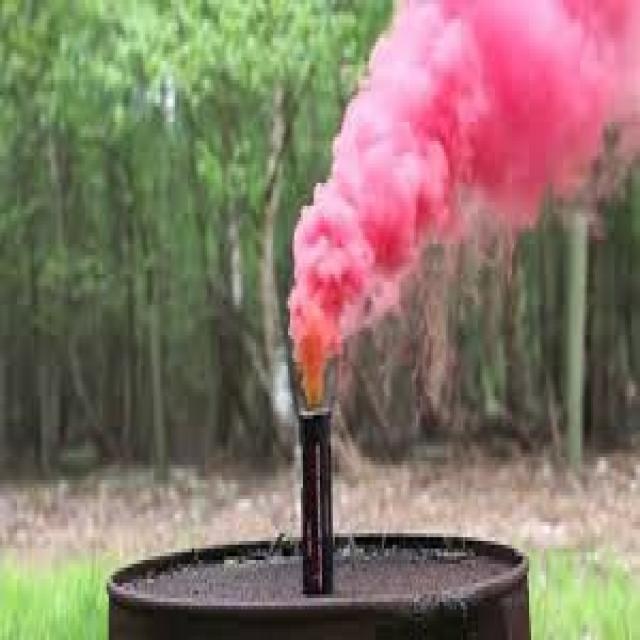Smoke: (286, 0, 640, 409)
